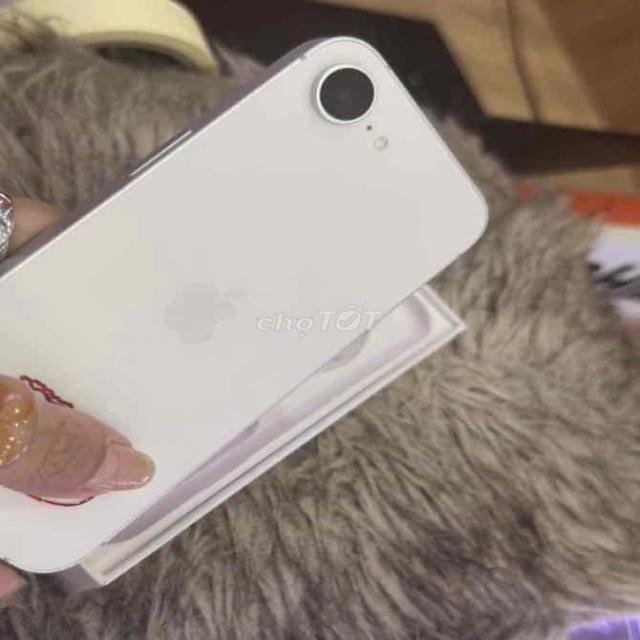gen_16: (0, 32, 496, 578)
